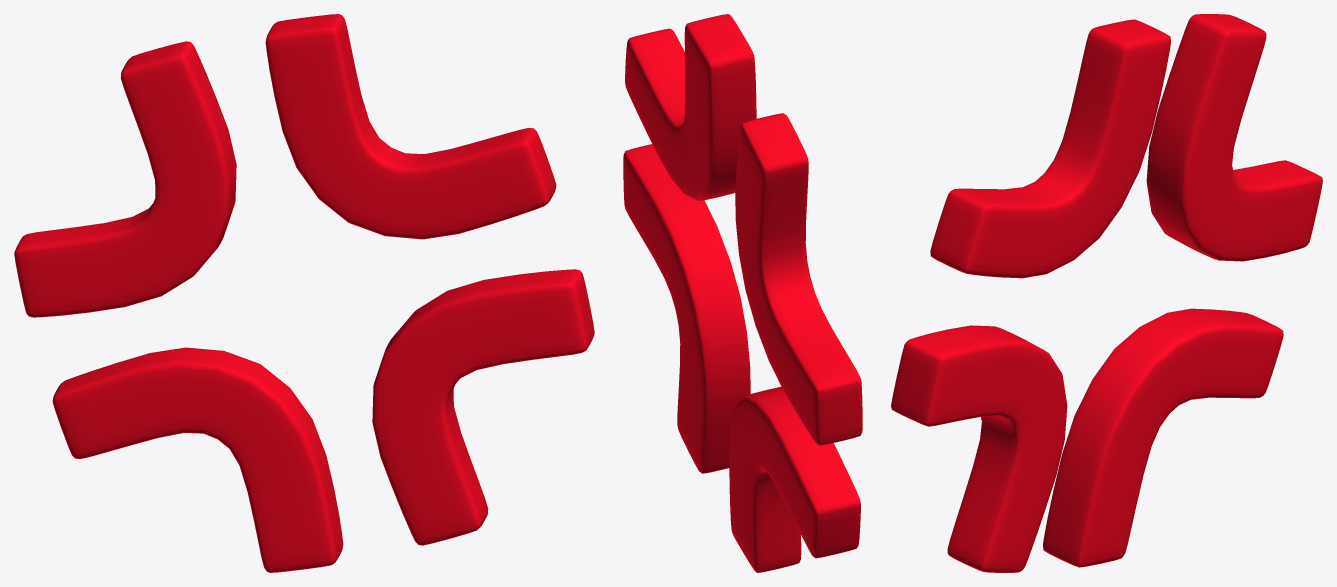
Rendered from ppajic.glb.
3 views of the same model, side by side, from view 1: azimuth 30°, elevation 25°; view 2: azimuth 150°, elevation 25°; view 3: azimuth 270°, elevation 25° (orthographic). The views are drawn at different scales.
Visible parts, largest first — view 1: ppajic_base_geo; view 2: ppajic_base_geo; view 3: ppajic_base_geo.
Part boxes in pixels (x1,y1,x2,y2): ppajic_base_geo: (14, 14, 594, 572); ppajic_base_geo: (623, 14, 862, 572); ppajic_base_geo: (891, 14, 1322, 572).
Bounding box in the file's own units: 0.089 × 0.111 × 0.0789.
